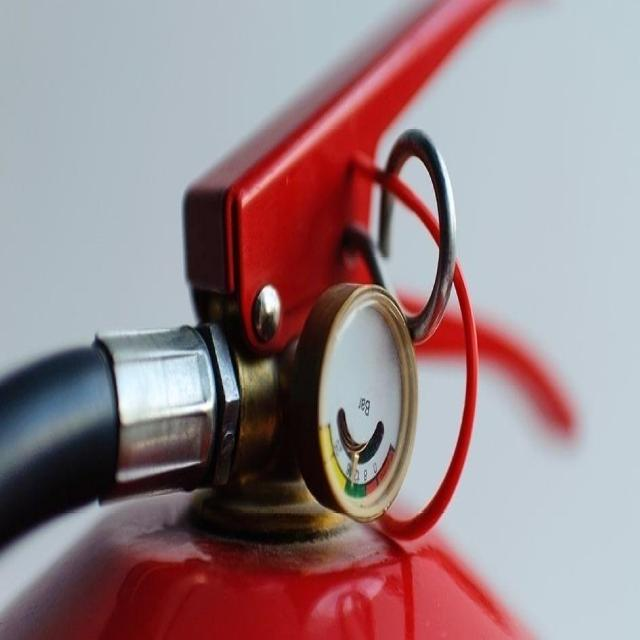fire_extinguisher: (0, 0, 592, 638)
